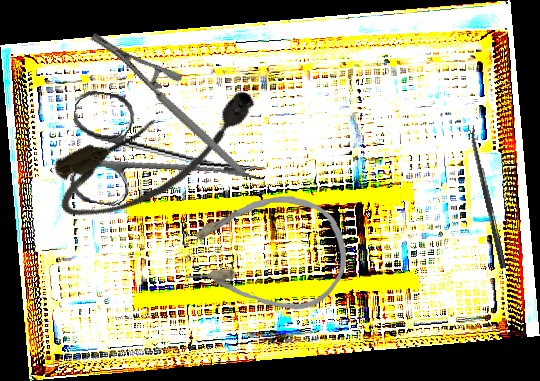Cannula: (43, 75, 275, 234), (184, 193, 347, 312)
Iris Scissors: (62, 88, 274, 227)
Needle Holder: (88, 0, 246, 208)
Surgical Spoon: (467, 124, 508, 269)
